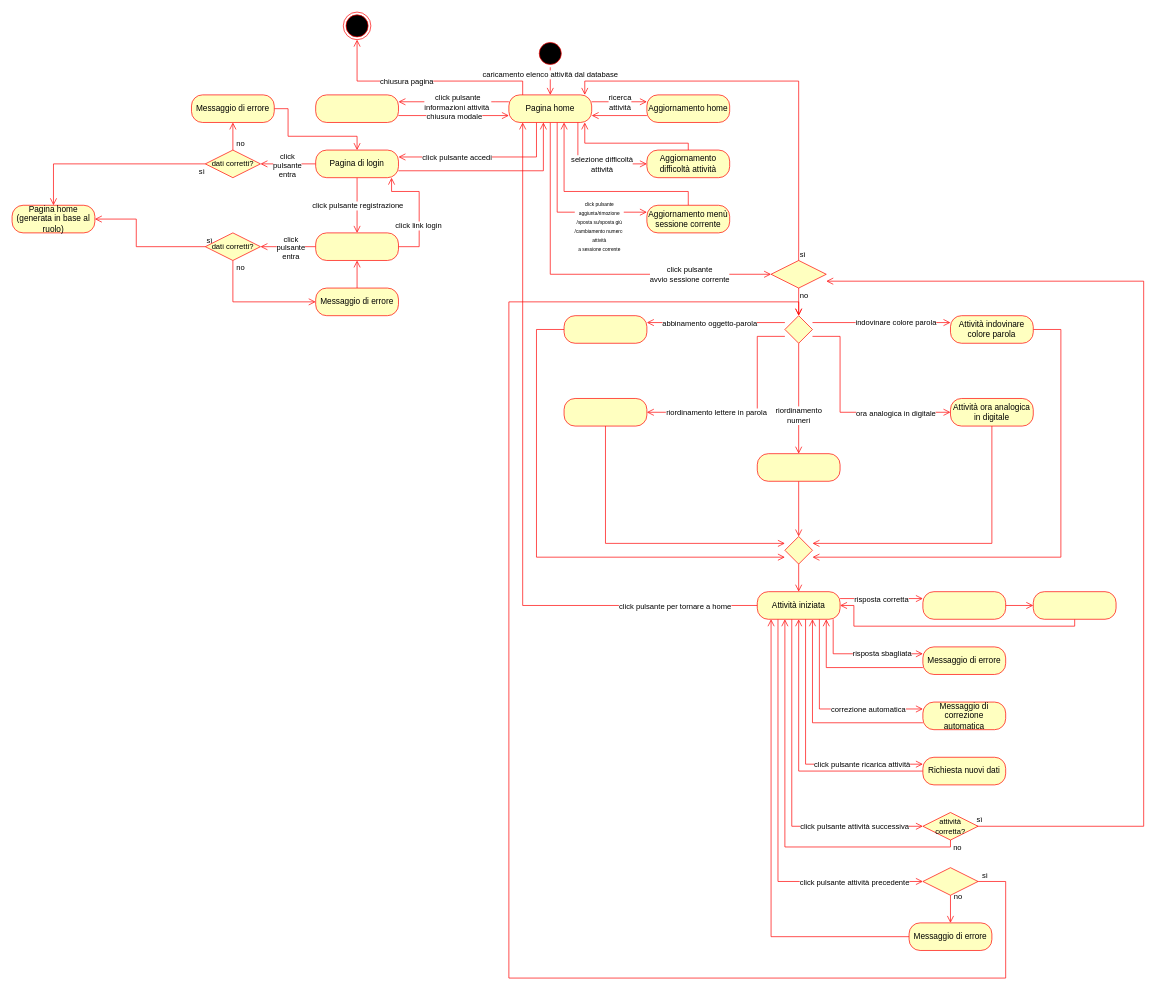
Image size: 1163x997. Some labels were removed from this diagram. Each missing label, with the centre of its shape:
"Abilita pulsante per avanzare" goes at pixel 1074 605.
"Attività abbinamento oggetto-parola" goes at pixel 605 329.
"Attività riordinamento letterere in parola" goes at pixel 605 412.
"Attività riordinamento numeri" goes at pixel 798 467.
"ci sono attività prima?" goes at pixel 950 881.
"Messaggio di successo" goes at pixel 964 605.
"Modale con informazioni attività" goes at pixel 356 108.
"Pagina di registrazione" goes at pixel 356 246.
"sessione terminata?" goes at pixel 798 274.
